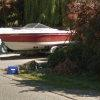Boat: (1, 15, 72, 59)
